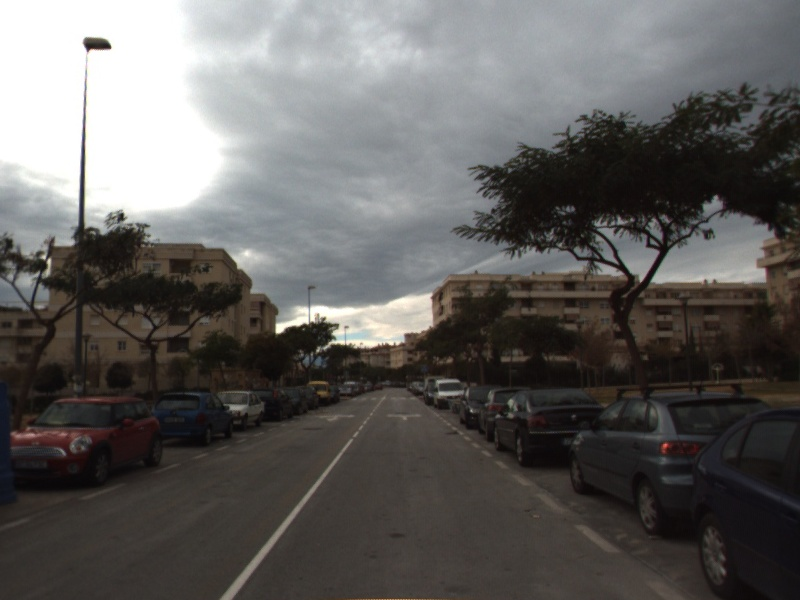LEFT_RIGHT: (384, 411, 425, 423)
